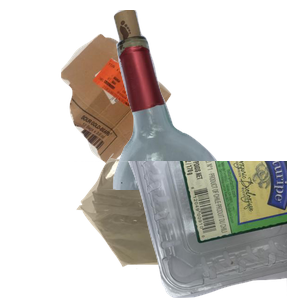cardboard: (58, 31, 222, 188)
glass: (89, 10, 300, 190)
plastic: (60, 161, 300, 300)
trash: (74, 148, 273, 300)
